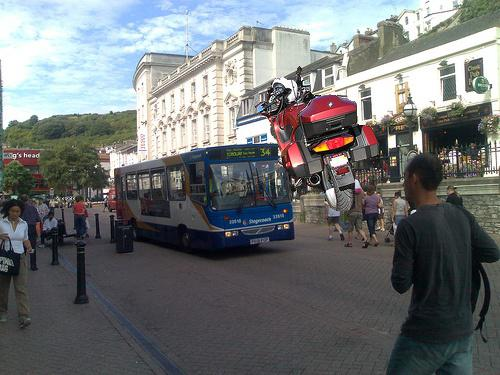tampered: (256, 67, 379, 211)
